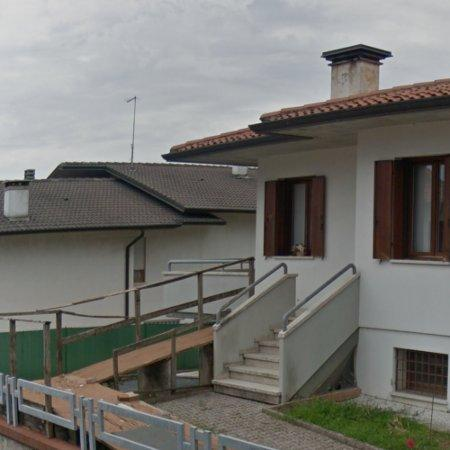chimneys: (323, 44, 393, 99)
stairs: (213, 331, 280, 405)
